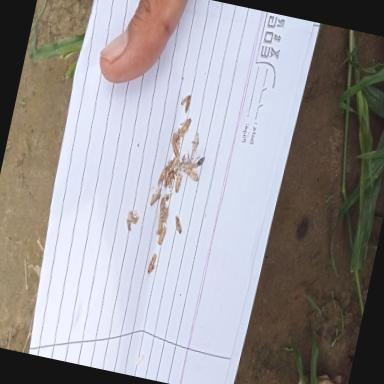pbw: (168, 133, 184, 158), (123, 210, 139, 234), (144, 252, 158, 276), (148, 188, 162, 210), (166, 157, 180, 177), (178, 116, 191, 137), (156, 165, 168, 187), (171, 214, 184, 234), (190, 132, 200, 157), (156, 224, 167, 246), (154, 214, 165, 236), (178, 94, 190, 114), (164, 169, 174, 190), (173, 173, 182, 194), (158, 196, 166, 216)
